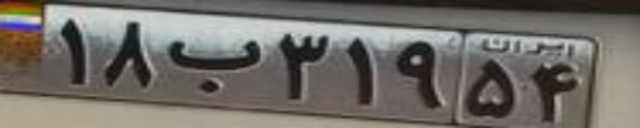1: (344, 37, 380, 105), (57, 18, 85, 85)
3: (277, 33, 332, 99)
4: (530, 63, 578, 122)
5: (461, 57, 518, 116)
8: (99, 19, 157, 90)
9: (394, 41, 440, 108)
be: (168, 38, 263, 93)
